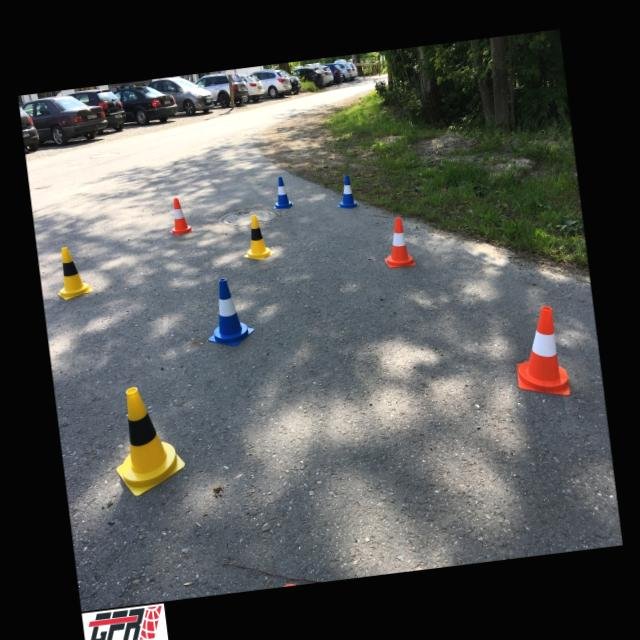blue_cone: (200, 274, 256, 348), (333, 173, 359, 210), (270, 175, 294, 209)
orange_cone: (508, 304, 570, 400), (378, 216, 416, 268), (166, 197, 194, 236)
yellow_cone: (106, 381, 188, 498), (52, 244, 94, 301), (238, 213, 274, 261)
